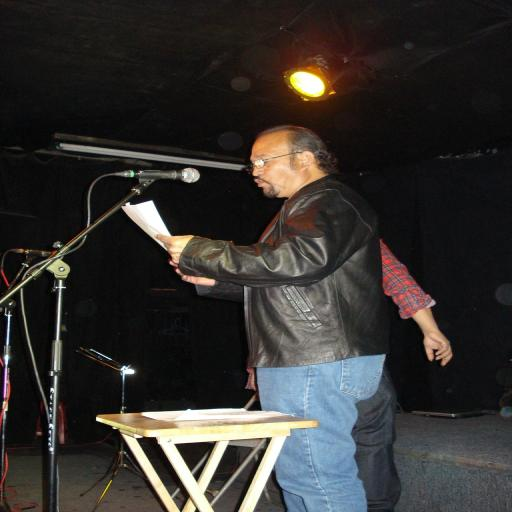Person: (163, 107, 419, 509)
no_gloves: (188, 248, 230, 295), (175, 226, 216, 272)
no_goggle: (248, 155, 305, 169)
no_helmet: (245, 117, 311, 143)
none: (226, 188, 362, 370)
